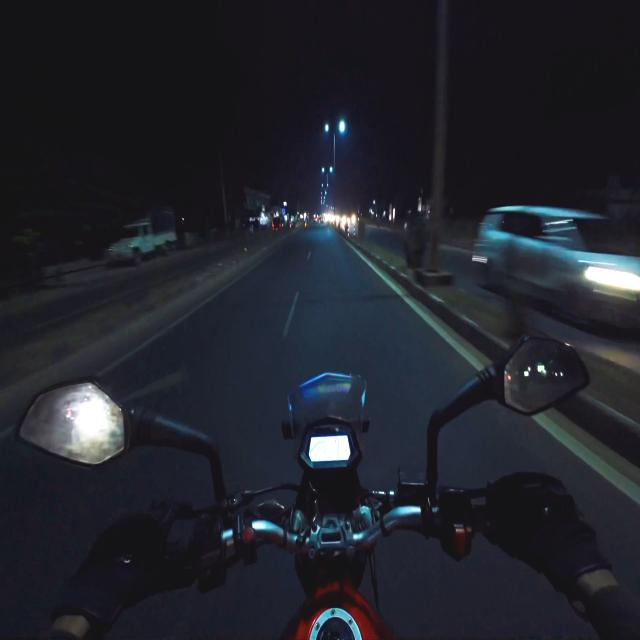car: (473, 206, 639, 327), (272, 217, 282, 230)
motorcycle: (17, 337, 588, 639)
